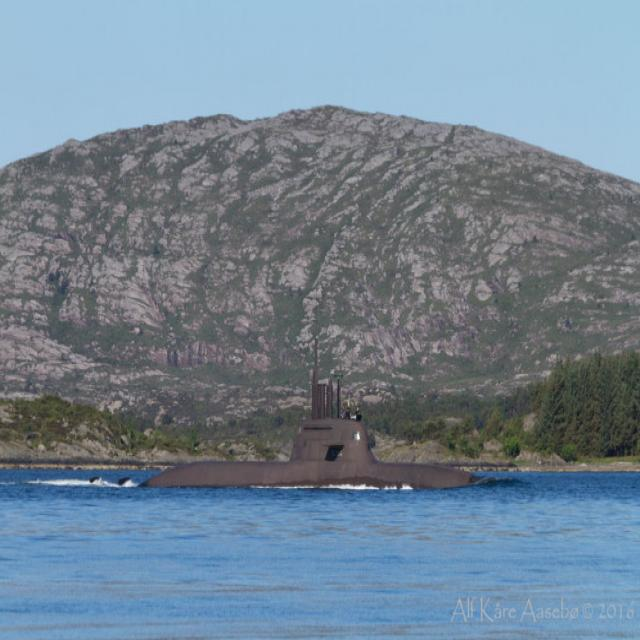submarine: (155, 339, 480, 493)
